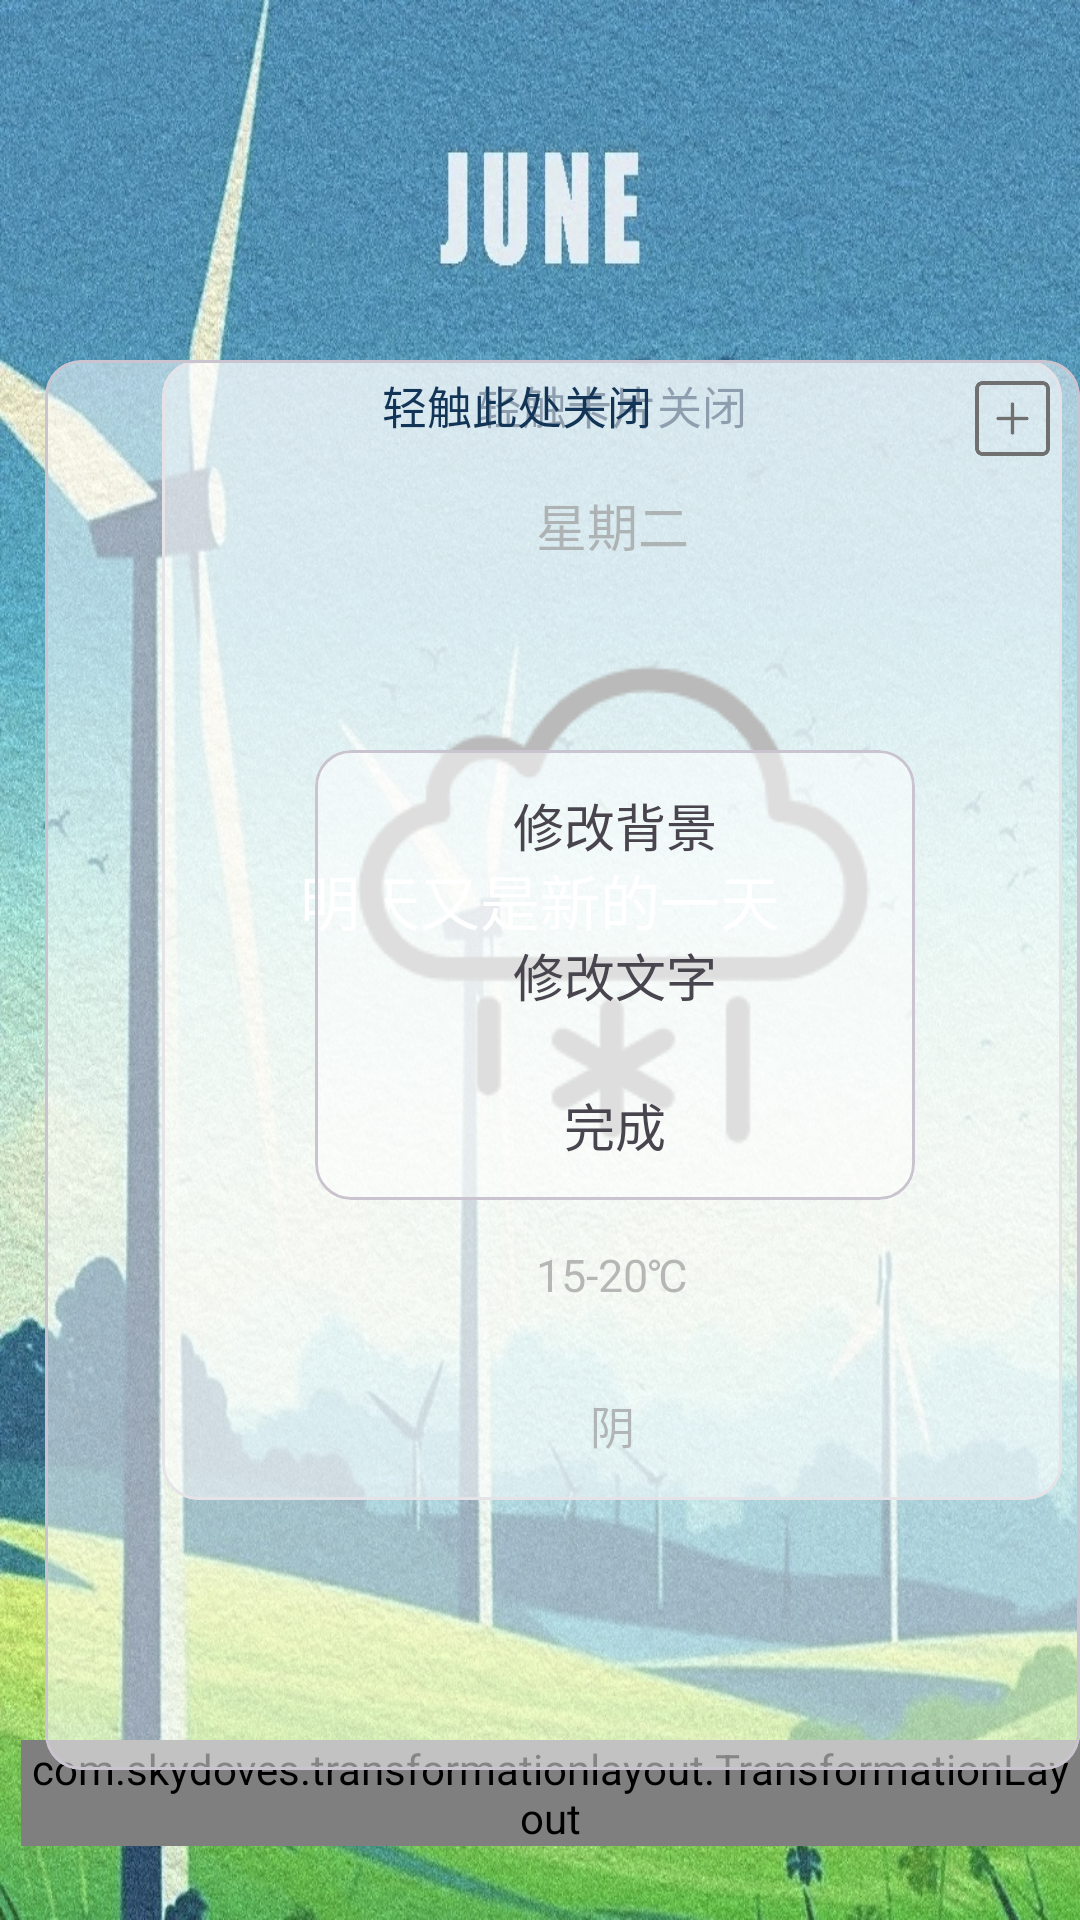

Named icons in this screenshot (1080*1920) and their centers, (x=x, y=y):
add mip: (x=1012, y=418)
